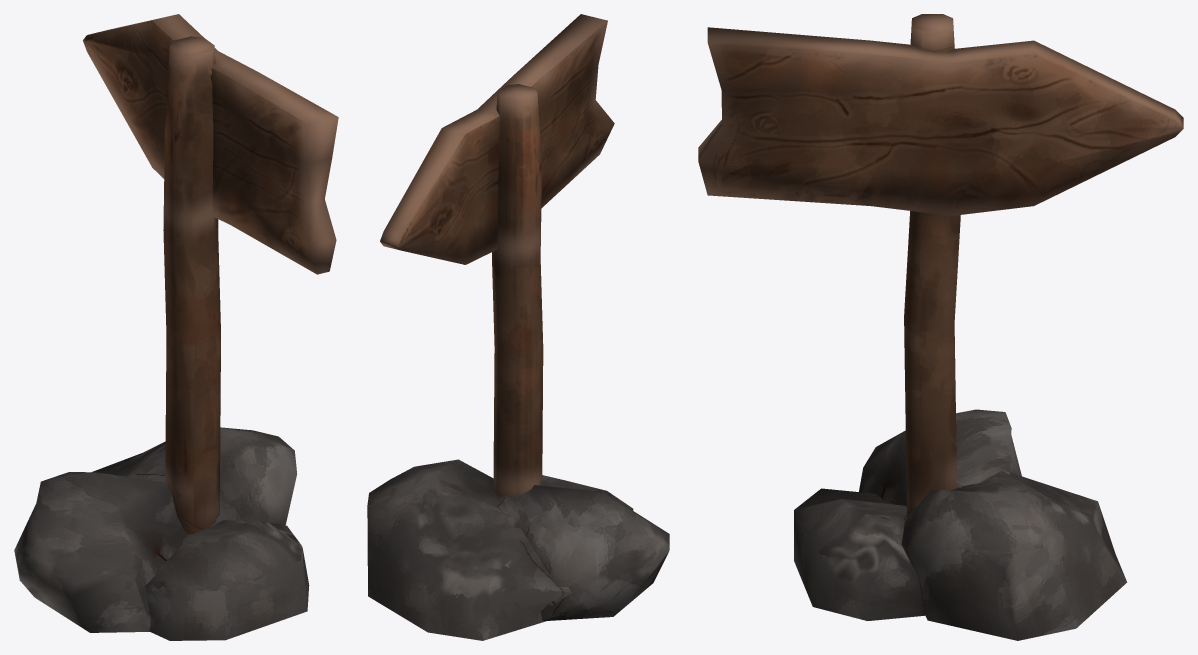
File: wooden_sign_-_low_poly.glb
3 views of the same model, side by side, from view 1: azimuth 30°, elevation 25°; view 2: azimuth 150°, elevation 25°; view 3: azimuth 270°, elevation 25° (orthographic). The views are drawn at different scales.
Visible parts, largest first — view 1: Cube.009; view 2: Cube.009; view 3: Cube.009.
Part boxes in pixels (x1,y1,x2,y2): Cube.009: (14,14,338,640); Cube.009: (367,14,669,640); Cube.009: (698,14,1183,640).
Bounding box in the file's own units: 0.6597 × 1.16 × 0.9136.
1 material, 1 textured.
